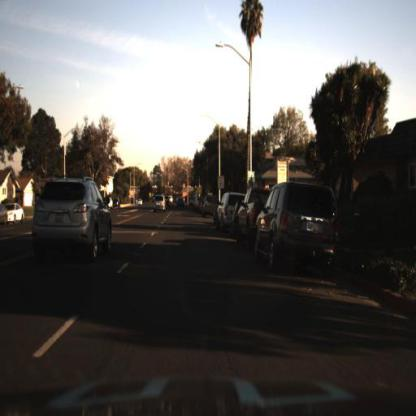car: (25, 163, 119, 279), (252, 174, 344, 286), (32, 175, 115, 262), (238, 184, 268, 246), (233, 188, 256, 256), (216, 190, 247, 232), (216, 192, 238, 238), (6, 194, 31, 225), (203, 195, 220, 218), (176, 196, 189, 216), (154, 193, 166, 214), (175, 195, 189, 213), (112, 197, 126, 212), (134, 197, 146, 209)
